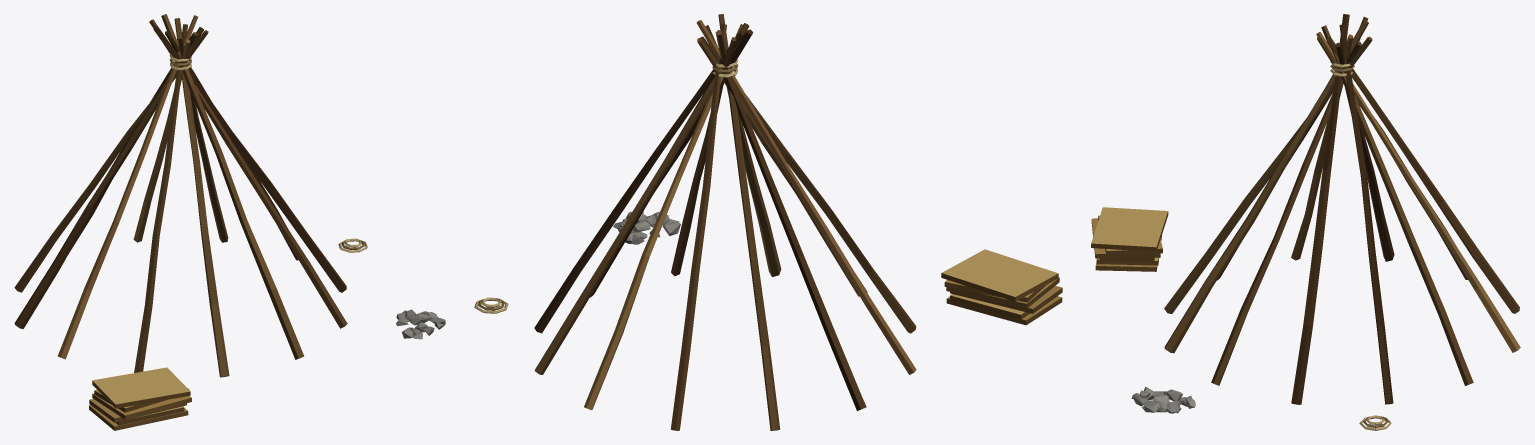
The model's file is hide_tent_1_struttura.glb.
3 renders of one model, left to right at view 1: azimuth 30°, elevation 25°; view 2: azimuth 150°, elevation 25°; view 3: azimuth 270°, elevation 25°, orthographic. The views are drawn at different scales.
Visible parts, largest first — view 1: hide_tent_1_struttura; view 2: hide_tent_1_struttura; view 3: hide_tent_1_struttura.
Part boxes in pixels (x1,y1,x2,y2): hide_tent_1_struttura: [14, 14, 445, 430]; hide_tent_1_struttura: [474, 14, 1062, 430]; hide_tent_1_struttura: [1091, 14, 1520, 430].
Bounding box in the file's own units: 8.23 × 6 × 7.53.
